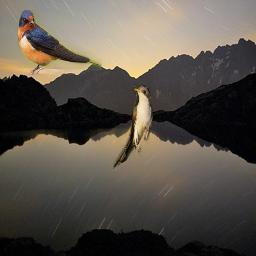Cuckoo: (113, 85, 153, 171)
Swallow: (17, 10, 102, 75)
